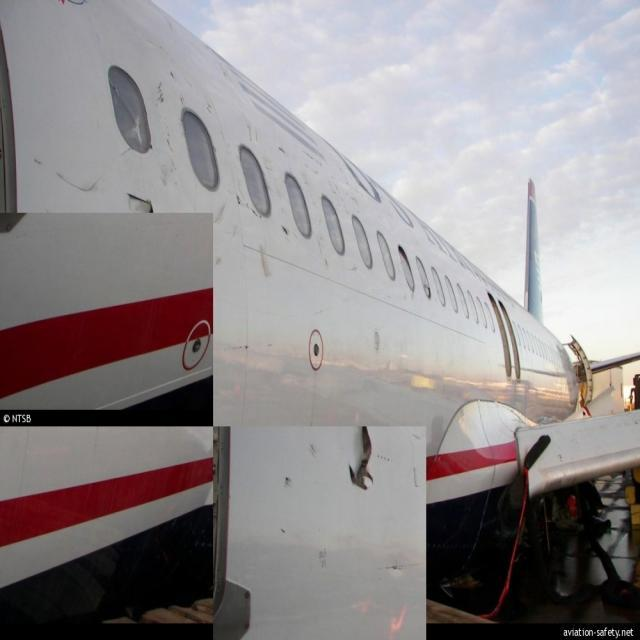crack: (347, 428, 380, 495), (118, 191, 166, 216)
